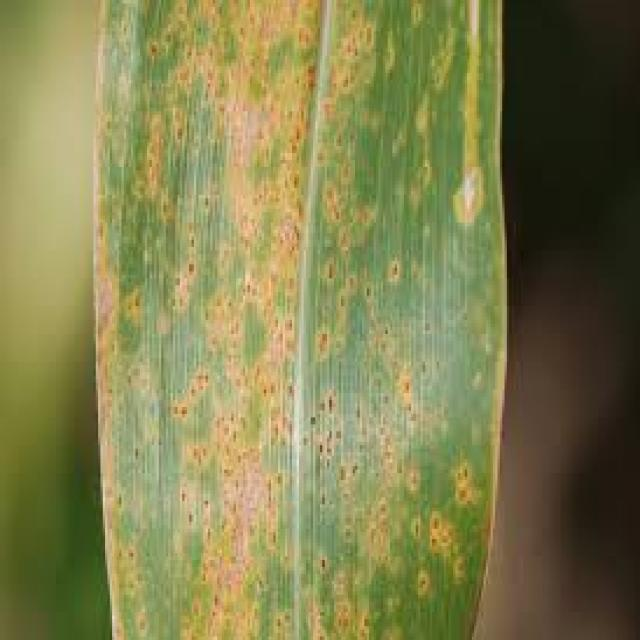Corn_Rust: (89, 0, 516, 640)
